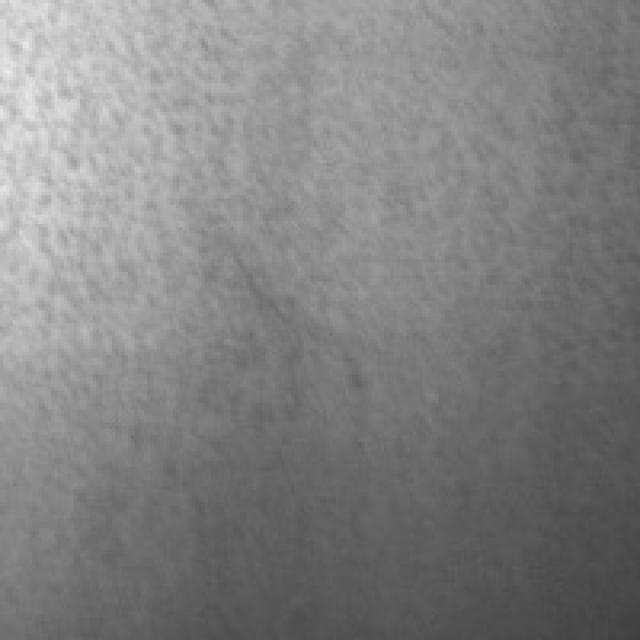pitted_surface: (0, 0, 637, 624)
